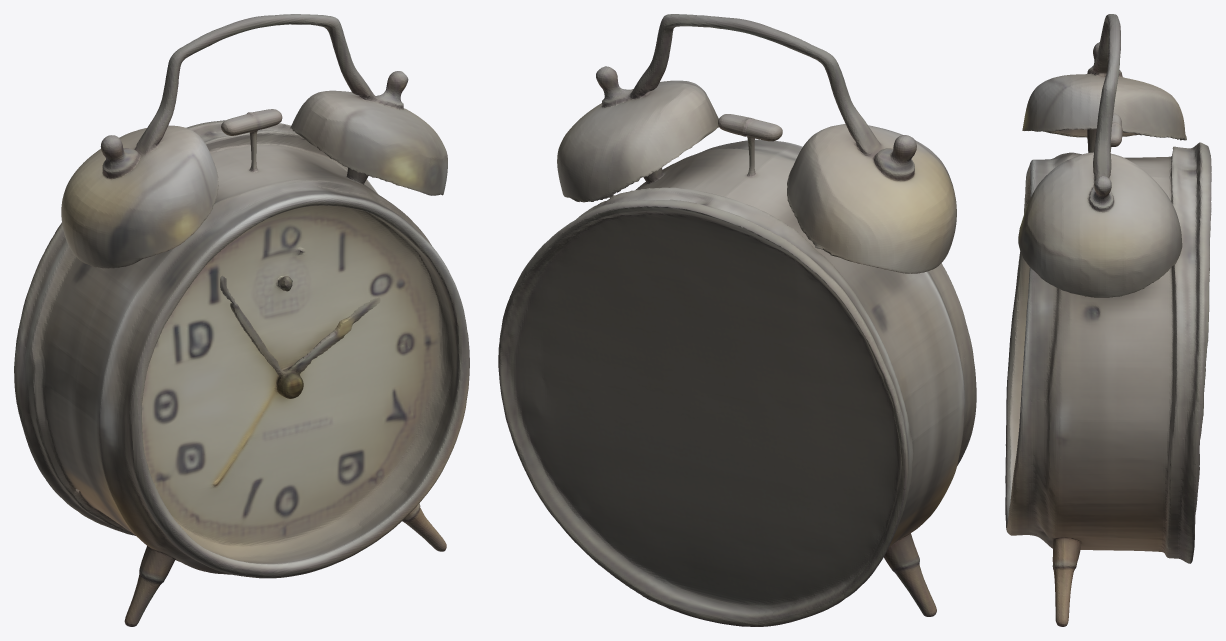
3 renders of one model, left to right at view 1: azimuth 30°, elevation 25°; view 2: azimuth 150°, elevation 25°; view 3: azimuth 270°, elevation 25°, orthographic. The views are drawn at different scales.
Visible parts, largest first — view 1: geometry_0; view 2: geometry_0; view 3: geometry_0.
Part boxes in pixels (bbox=[...]): geometry_0: bbox=[14, 14, 469, 626]; geometry_0: bbox=[498, 14, 976, 626]; geometry_0: bbox=[1005, 14, 1211, 626].
Bounding box in the file's own units: 0.7377 × 1 × 0.3623.
